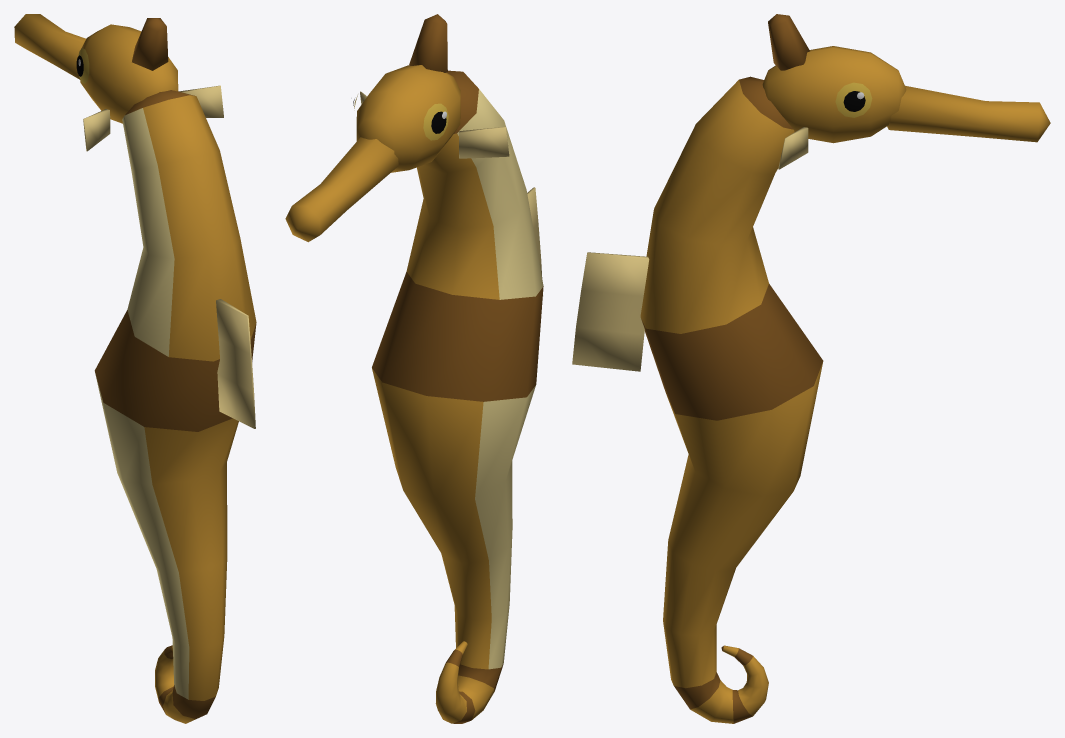
Rendered from seahorse.glb.
3 renders of one model, left to right at view 1: azimuth 30°, elevation 25°; view 2: azimuth 150°, elevation 25°; view 3: azimuth 270°, elevation 25°, orthographic. The views are drawn at different scales.
Parts seen in each view (by area): view 1: seahorse; view 2: seahorse; view 3: seahorse.
Boxes of the visible parts, x1=… form: seahorse: x1=14, y1=14, x2=256, y2=723; seahorse: x1=285, y1=14, x2=543, y2=723; seahorse: x1=572, y1=14, x2=1050, y2=723.
Size of the model in its own units: 0.4821 by 2.29 by 1.4.
